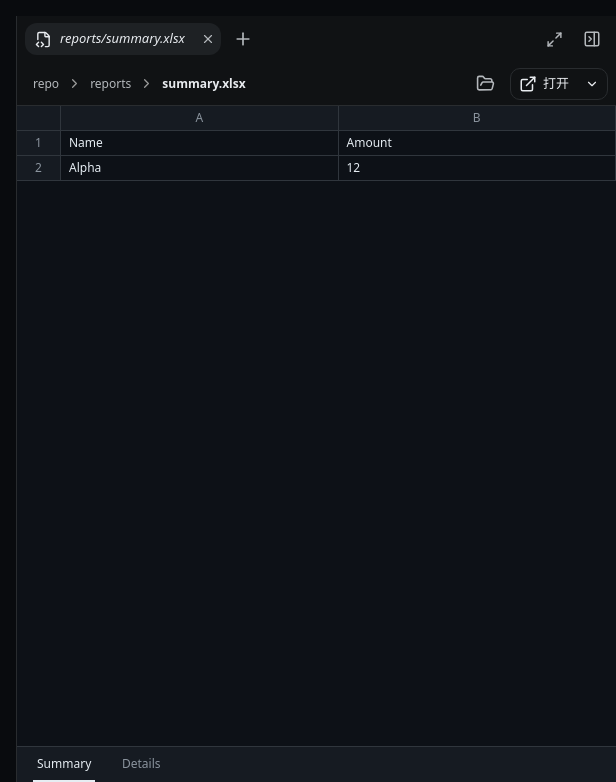
InspectorPanel › renders spreadsheet cells and switches worksheets
Expected: the navigation bar named "File path" shows "reports", [90,74,131,92]
Expected: the navigation bar named "File path" shows "summary.xlsx", [162,74,246,92]
What coordinates should you click on to do the following:
click the tab "Details"
I would click on:
 (141, 764)
Its box is [105,747,177,781].
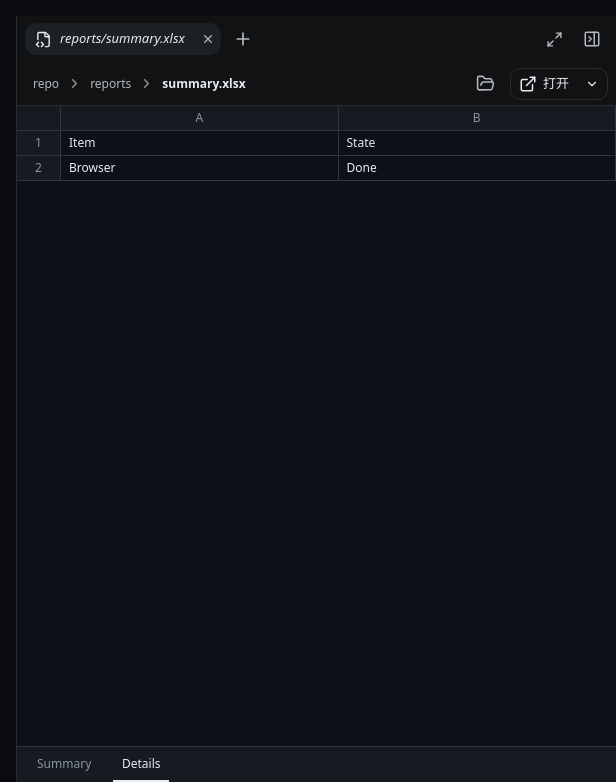
Now the table with class "spreadsheet-grid" shows "Browser", box [69,159,116,176]
Now the cell with class "spreadsheet-grid" no longer shows "Alpha"
